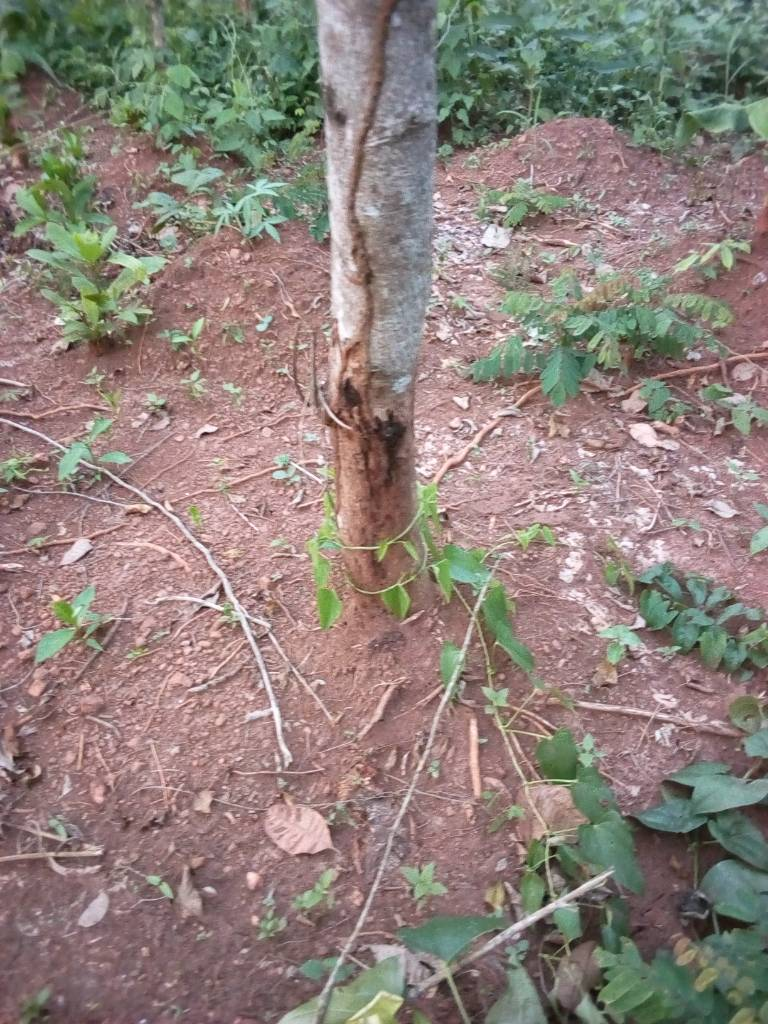Termites: (341, 24, 413, 580)
